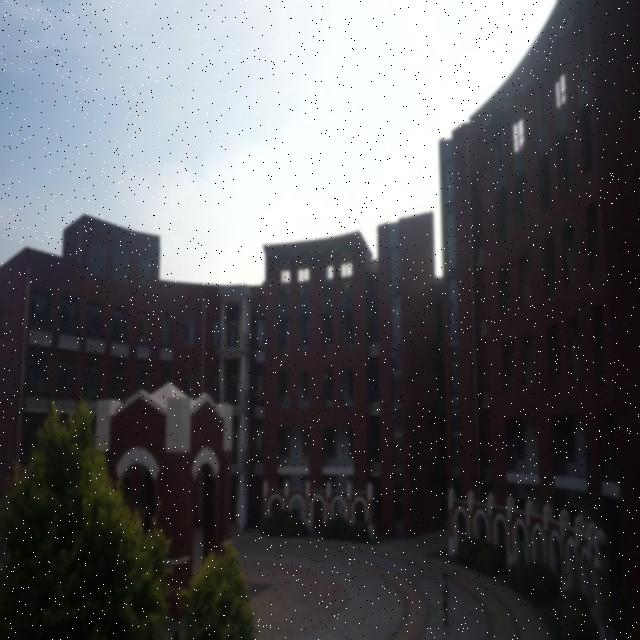UAV: (323, 374, 328, 380)
